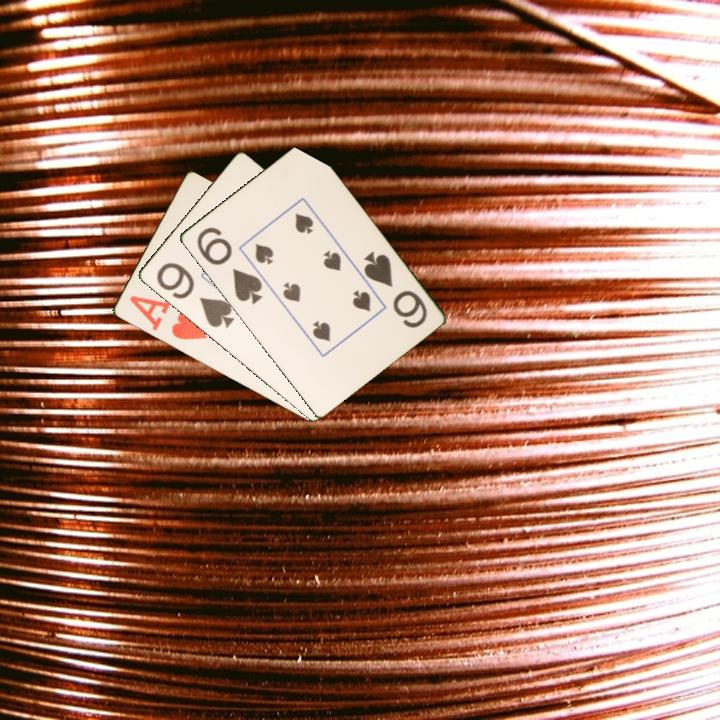6s: (193, 223, 265, 307), (360, 247, 430, 331)
9s: (152, 259, 237, 331)
Ah: (125, 292, 210, 343)
